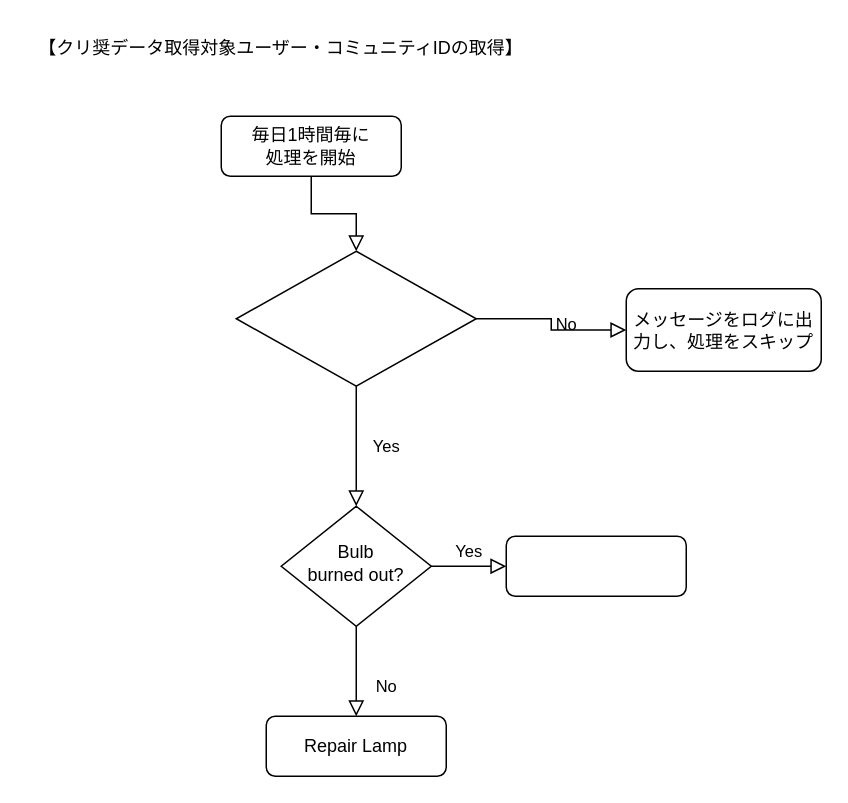
This 848x803 diagram has some shape labels left out. Each missing label, with the centre of its shape:
"Replace Bulb" belongs at [595,565].
"ニコ生公式ランキン グのURLが開ける？" belongs at [355,318].
